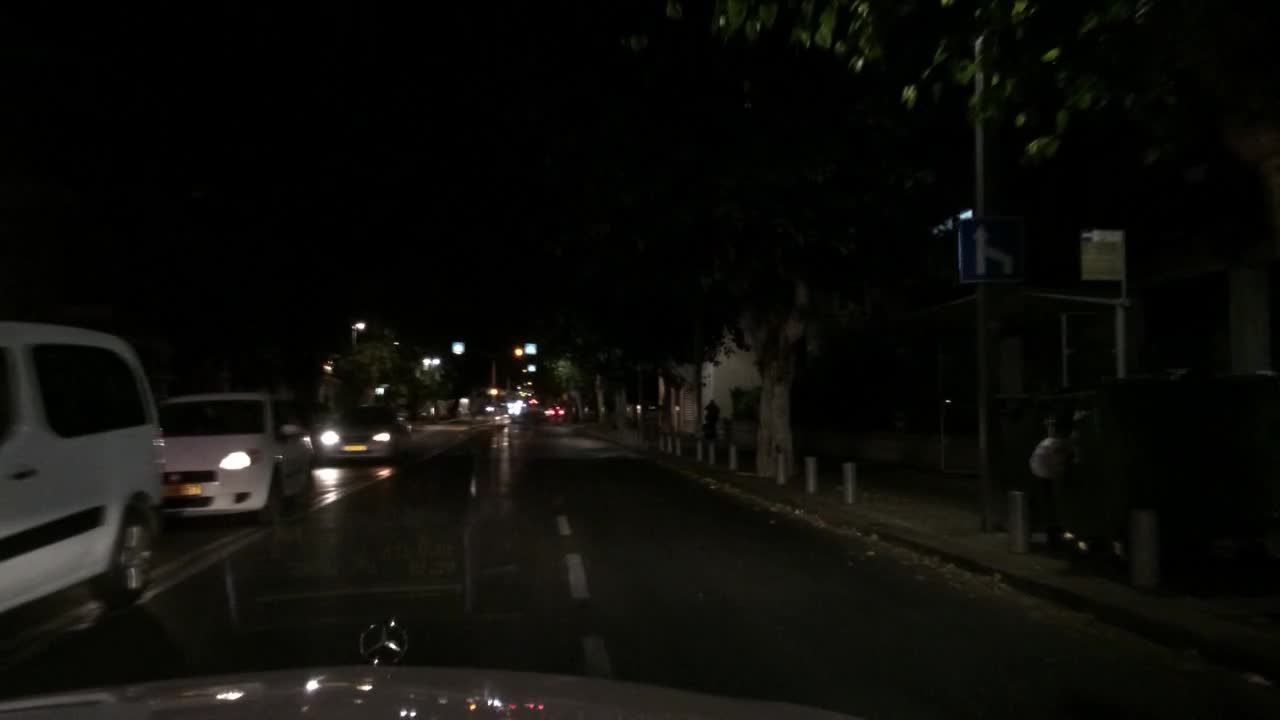car: (0, 317, 160, 652), (157, 392, 316, 531), (318, 405, 415, 462), (502, 397, 524, 412), (541, 407, 566, 420)
person: (1015, 435, 1075, 548), (702, 397, 721, 440)
traffic sign: (952, 217, 1023, 287), (1078, 227, 1125, 282)
